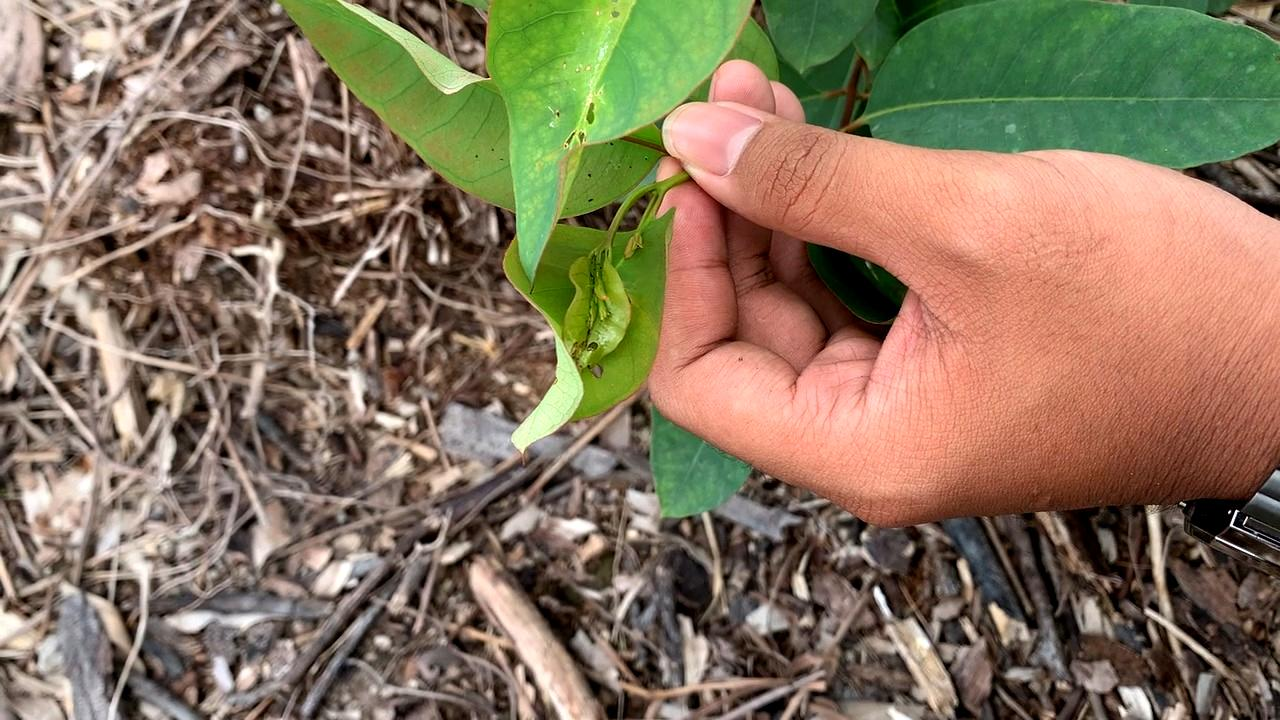Leaf Roller - Leaf: (563, 235, 633, 378)
